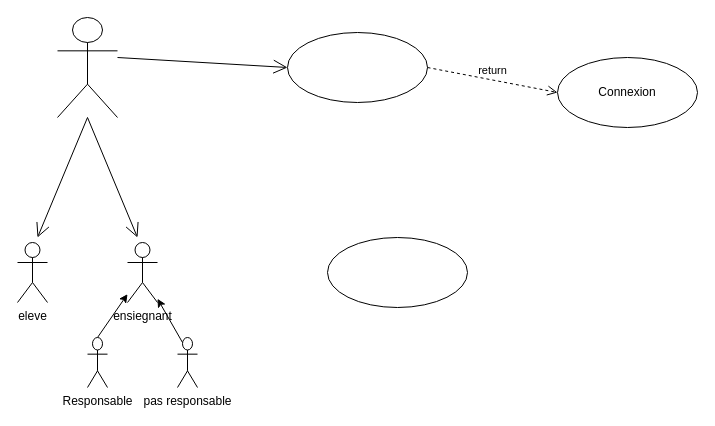
Image size: 715x426. Some labels were removed from this diagram. Each missing label, with the centre of its shape:
COnsul: (x=397, y=272)
Consultation: (x=357, y=67)
utilisateur: (x=87, y=67)
